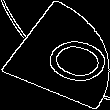O_NW: (10, 23, 100, 87)
